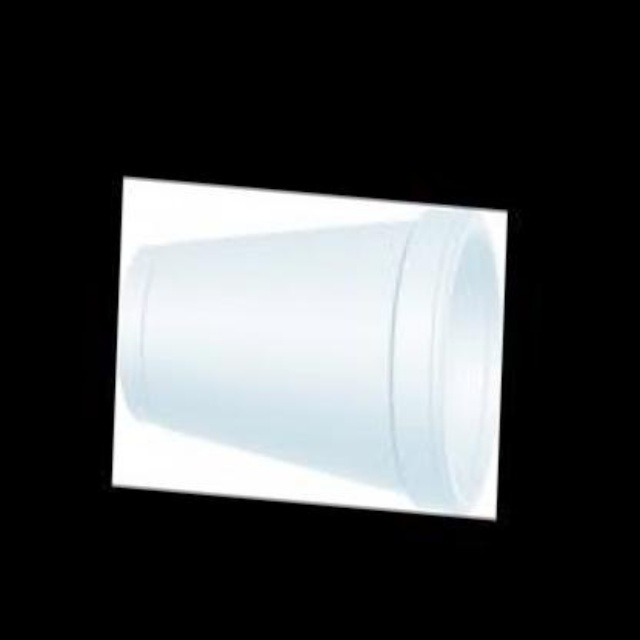trash: (112, 178, 505, 517)
